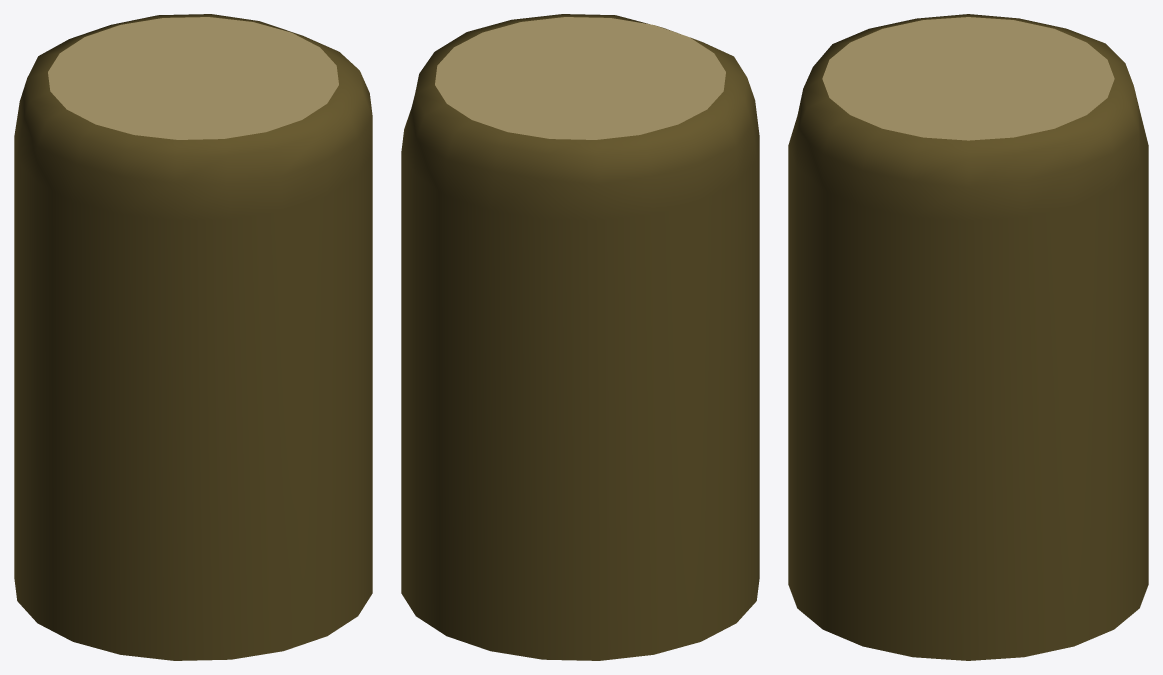
The model's file is Button.fbx.
3 views of the same model, side by side, from view 1: azimuth 30°, elevation 25°; view 2: azimuth 150°, elevation 25°; view 3: azimuth 270°, elevation 25° (orthographic).
Parts seen in each view (by area): view 1: pCylinder1; view 2: pCylinder1; view 3: pCylinder1.
Boxes of the visible parts, x1,y1,x2,y2 form: pCylinder1: (14, 14, 372, 660); pCylinder1: (401, 14, 759, 660); pCylinder1: (788, 14, 1148, 660).
Size of the model in its own units: 2 by 3.1 by 2.
